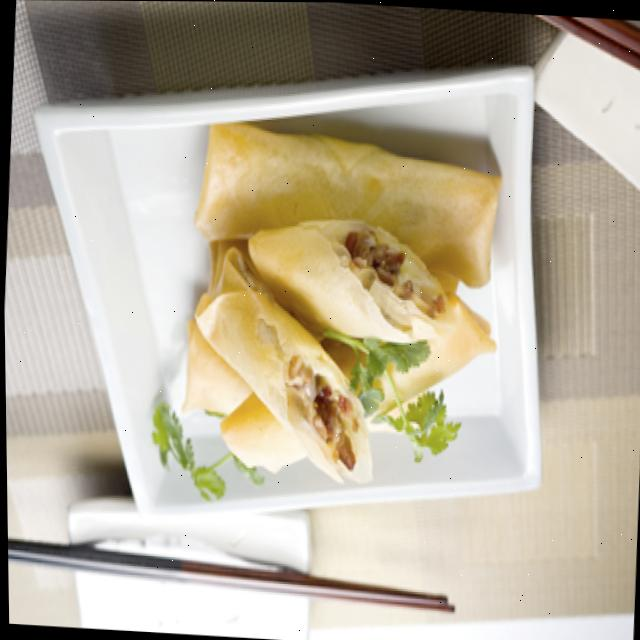鸡蛋料理: (164, 107, 524, 512)
